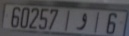0: (20, 6, 30, 28)
2: (30, 7, 39, 30)
5: (38, 7, 48, 30)
6: (106, 12, 117, 35), (10, 6, 20, 28)
7: (48, 8, 59, 32)
waw: (75, 12, 89, 31)
